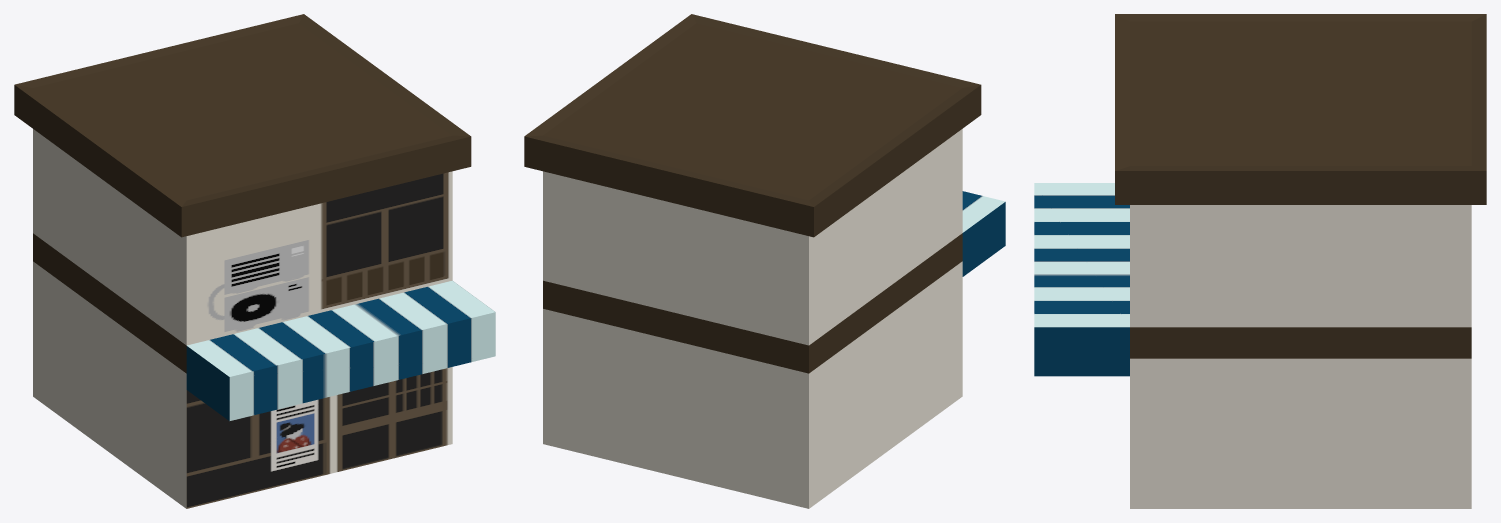
The model's file is building6.fbx.
3 renders of one model, left to right at view 1: azimuth 30°, elevation 25°; view 2: azimuth 150°, elevation 25°; view 3: azimuth 270°, elevation 25°, orthographic. The views are drawn at different scales.
Parts seen in each view (by area): view 1: pCube3; view 2: pCube3; view 3: pCube3.
Boxes of the visible parts, x1=… form: pCube3: x1=14, y1=14, x2=495, y2=508; pCube3: x1=524, y1=14, x2=1005, y2=508; pCube3: x1=1034, y1=14, x2=1486, y2=508.
Size of the model in its own units: 1.09 by 1.11 by 1.32.
